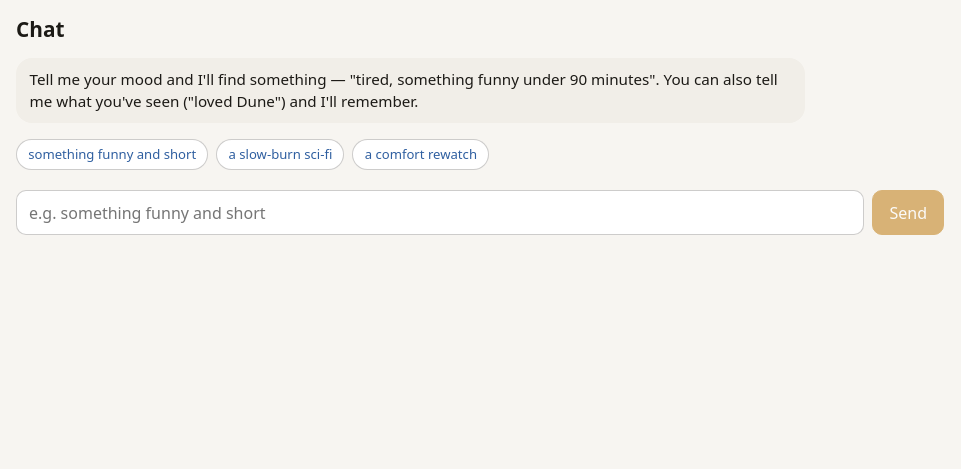
it: Chat write actions › leaves the grid order unchanged and untagged when the reply names no pick
Type "surprise me" into the field with test id "chat-input" at (440,213), box 16,190 -> 864,235
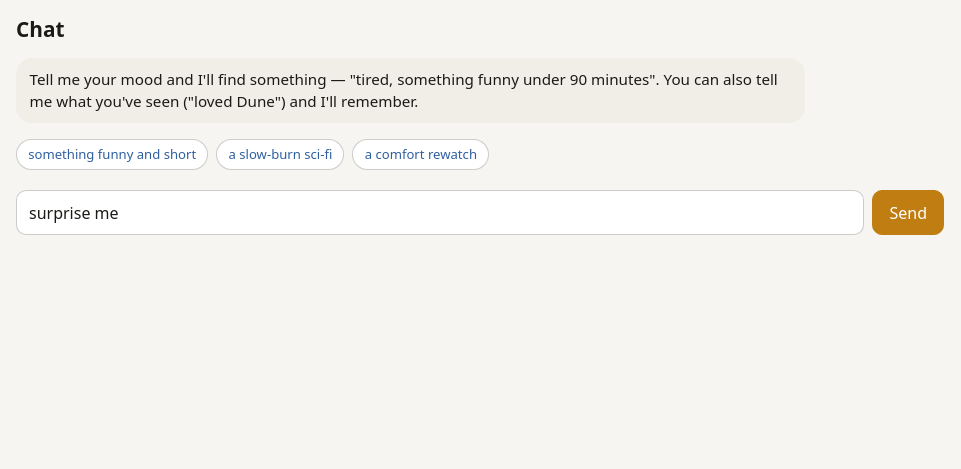
Click the button with test id "chat-send" at (908,213), box 872,190 -> 944,235
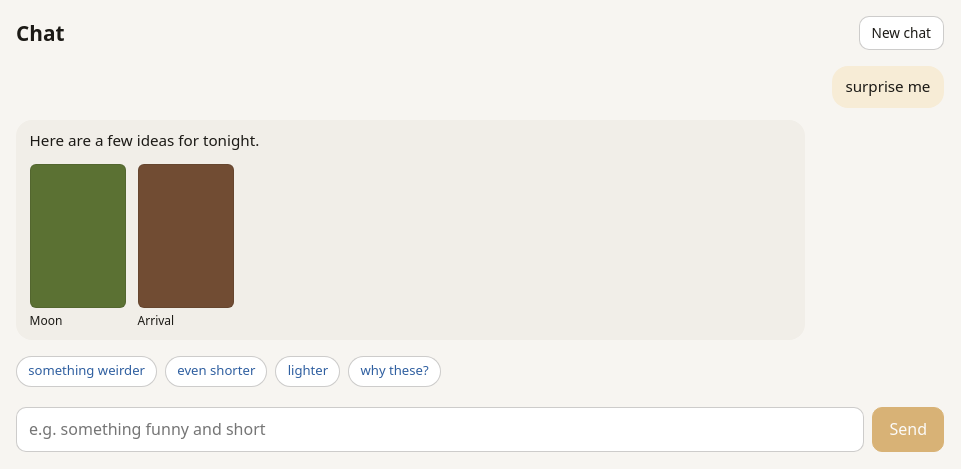
Now the text "Here are a few ideas for tonight." is shown, box 30,130 -> 259,150
Now the text "Moon" is shown, box 30,312 -> 62,329
Now the text "Arrival" is shown, box 138,312 -> 174,329
